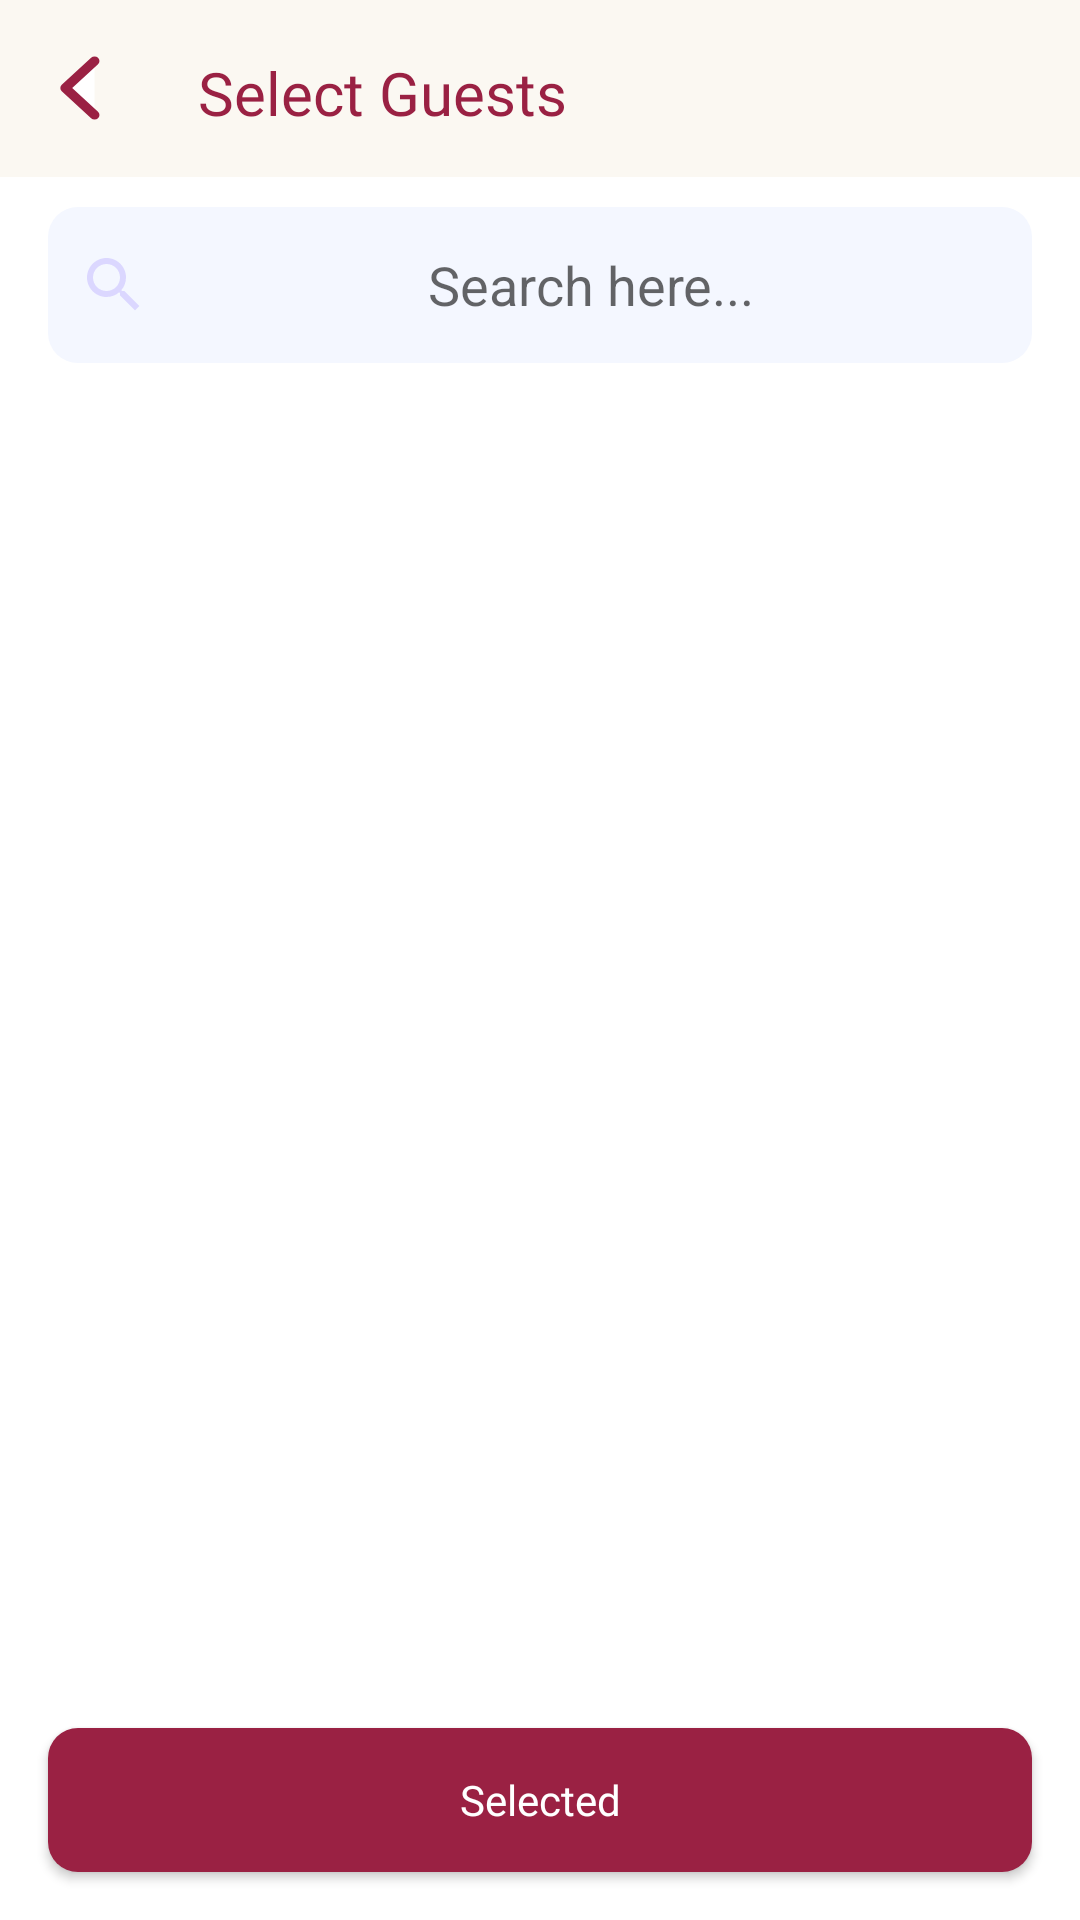

Screen size 1080 × 1920. Icon name, then its box in pixels as [x1, y1, x2, y2]:
back arrow: [60, 56, 100, 120]
